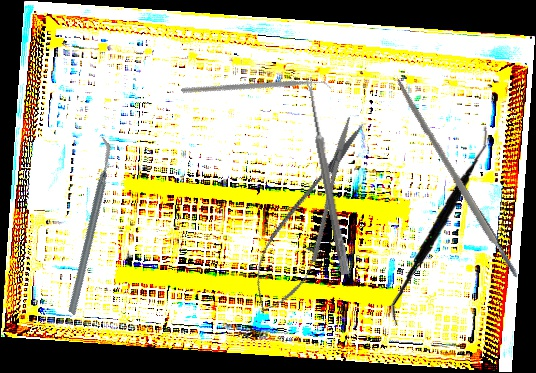Chopper: (6, 135, 171, 317), (180, 18, 334, 163)
Micro Scissor: (238, 108, 380, 325)
Scalpel Handle: (392, 77, 521, 281)
Spatula Surgical: (378, 125, 503, 326)
Surgical Spoon: (303, 76, 351, 276)
